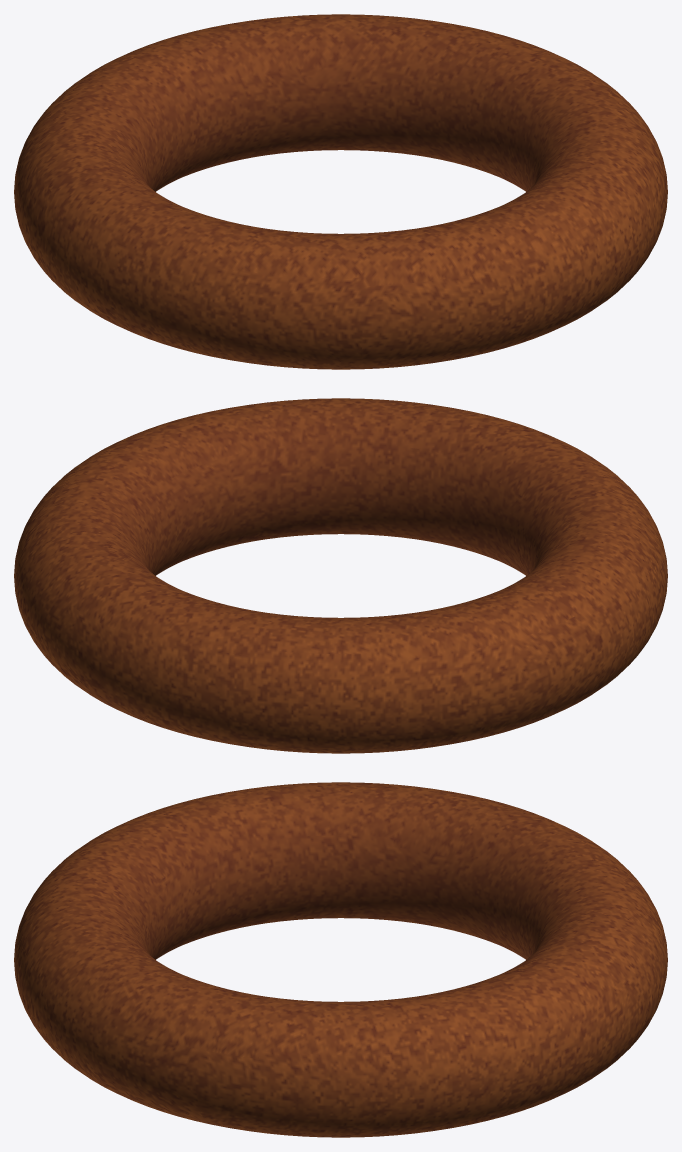
3 renders of one model, top to bottom at view 1: azimuth 30°, elevation 25°; view 2: azimuth 150°, elevation 25°; view 3: azimuth 270°, elevation 25°, orthographic.
Visible parts, largest first — view 1: Torus.021; view 2: Torus.021; view 3: Torus.021.
Boxes of the visible parts, box(x1,y1,x2,y2) form: Torus.021: box(14, 14, 667, 369); Torus.021: box(14, 398, 667, 753); Torus.021: box(14, 782, 667, 1137).
Bounding box in the file's own units: 3.09 × 0.6432 × 3.09.
1 material, 1 textured.
